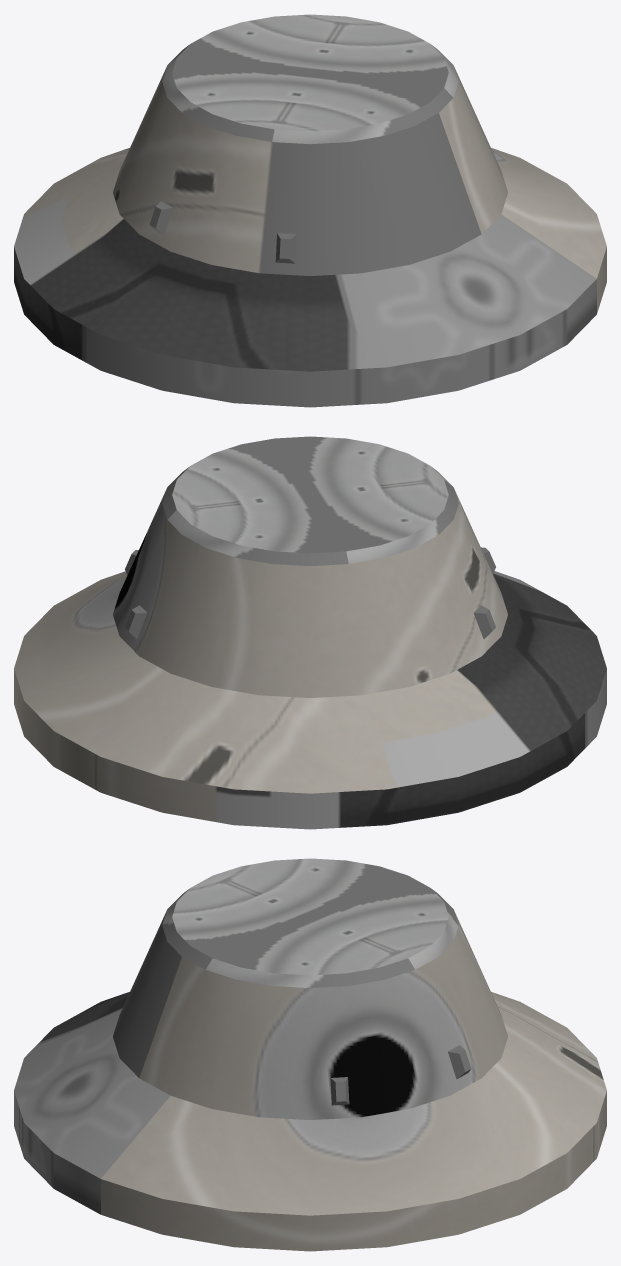
The model's file is Eridani_NodeSupport_1.obj.
3 views of the same model, one above another, from view 1: azimuth 30°, elevation 25°; view 2: azimuth 150°, elevation 25°; view 3: azimuth 270°, elevation 25° (orthographic).
Visible parts, largest first — view 1: Eridani_NodeSupport_1; view 2: Eridani_NodeSupport_1; view 3: Eridani_NodeSupport_1.
Part boxes in pixels (bbox=[...]): Eridani_NodeSupport_1: bbox=[14, 14, 606, 407]; Eridani_NodeSupport_1: bbox=[14, 436, 606, 829]; Eridani_NodeSupport_1: bbox=[14, 858, 606, 1251].
Size of the model in its own units: 1.88 by 0.76 by 1.88.
